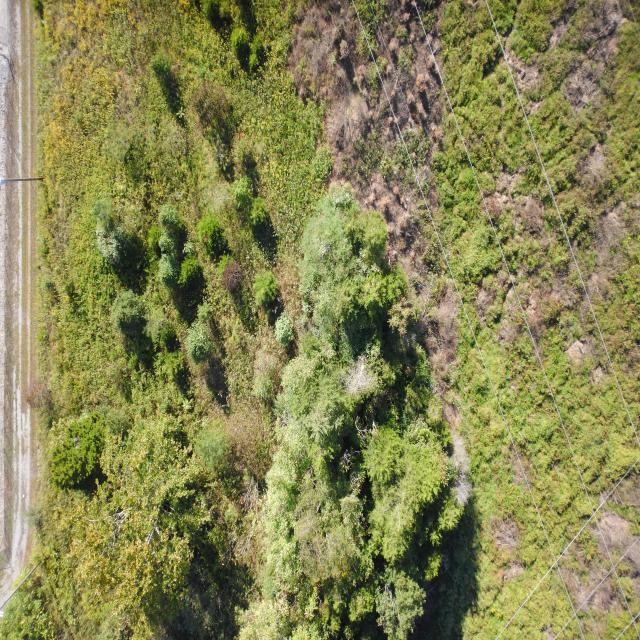Area of Interest: (251, 398, 447, 632)
